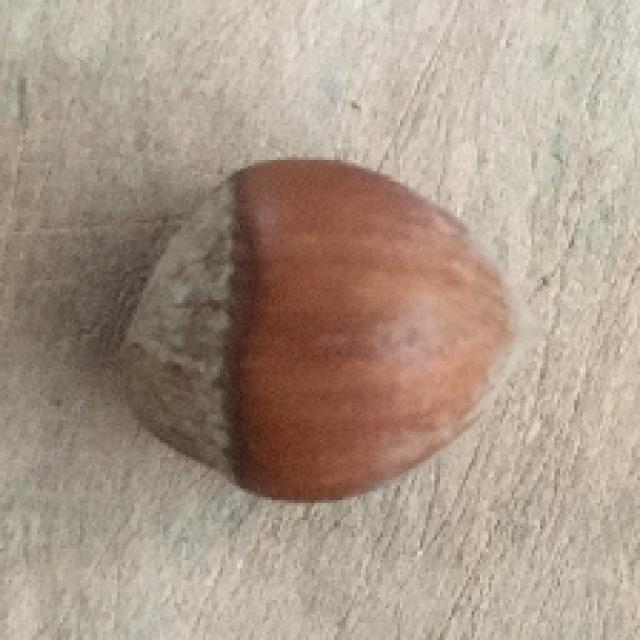QualityHazelnut: (110, 154, 544, 507)
